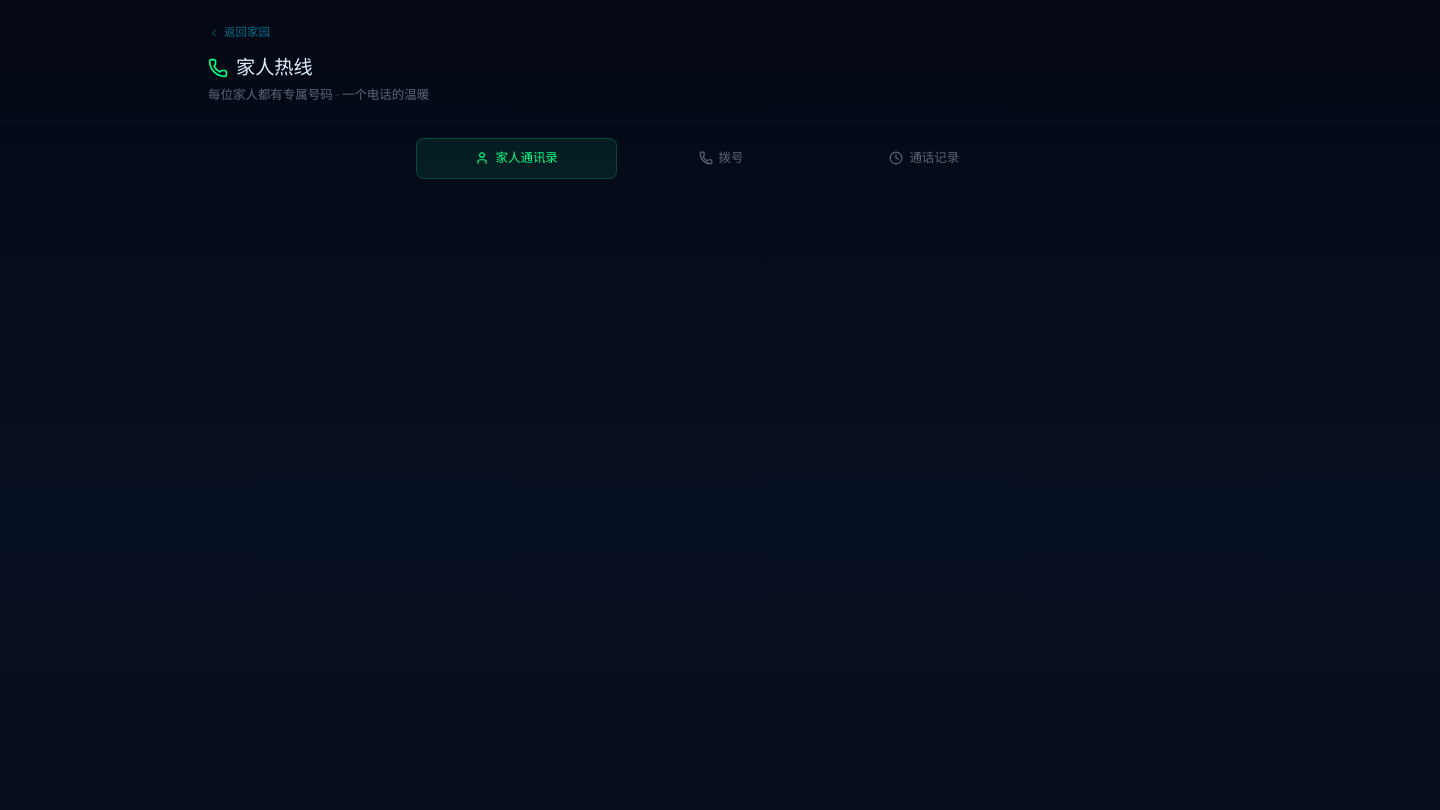
Test: ai-family/FamilyPhone › 通话记录应渲染来电/去电/未接标签
The width and height of the screenshot is (1440, 810).
Click the button "通话记录". click: (924, 158)
box: x1=825 y1=138 x2=1024 y2=178
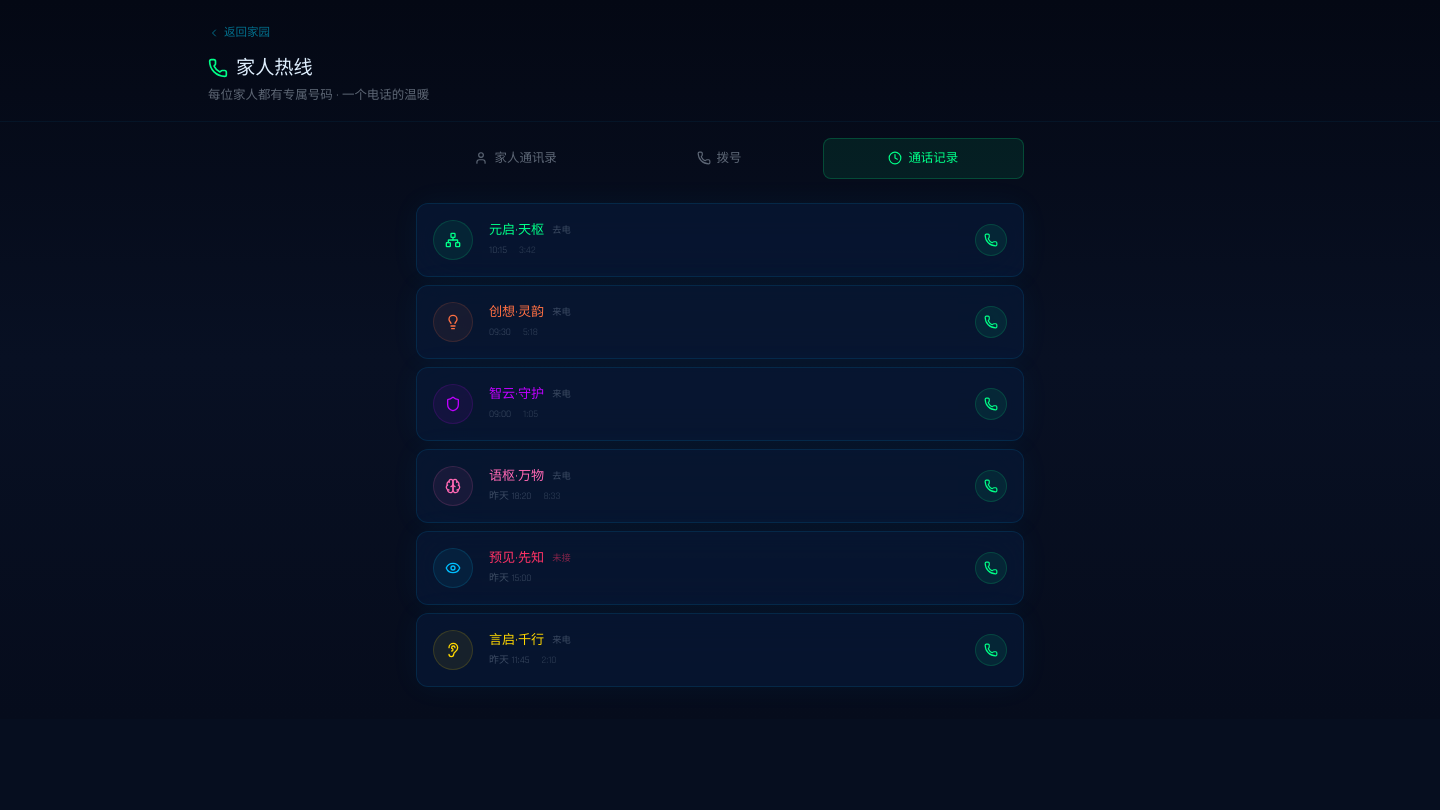
Expected: the text "来电" is shown 3 times, x1=552 y1=306 x2=571 y2=320; x1=552 y1=388 x2=571 y2=402; x1=552 y1=634 x2=571 y2=648
Expected: the text "去电" is shown 2 times, x1=552 y1=224 x2=571 y2=238; x1=552 y1=470 x2=571 y2=484
Expected: the text "未接" is shown, x1=552 y1=552 x2=571 y2=566
